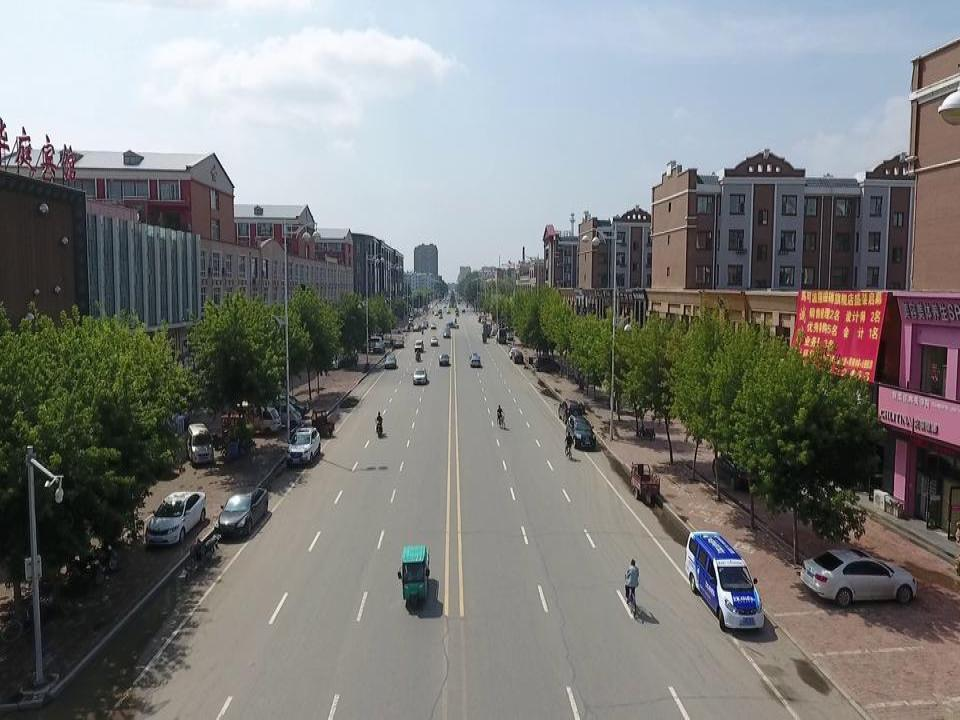car: (799, 548, 918, 607), (145, 490, 206, 546), (213, 487, 269, 536), (712, 449, 763, 491), (285, 426, 321, 466), (262, 391, 311, 416), (565, 413, 596, 451), (558, 397, 585, 424), (326, 344, 353, 369), (411, 367, 428, 385), (468, 352, 481, 368), (437, 353, 450, 367), (386, 324, 405, 333), (511, 351, 524, 364), (384, 355, 396, 369), (372, 342, 385, 354), (446, 320, 459, 331), (508, 346, 519, 358), (394, 336, 405, 348), (429, 334, 439, 346), (442, 328, 451, 339), (412, 324, 422, 332), (430, 322, 436, 330), (408, 316, 413, 323)
truck: (496, 327, 507, 345), (481, 321, 491, 339)
van: (685, 530, 764, 630), (232, 404, 282, 436), (259, 400, 302, 429), (186, 422, 214, 466), (533, 356, 561, 372), (360, 336, 383, 351), (413, 339, 424, 353)
